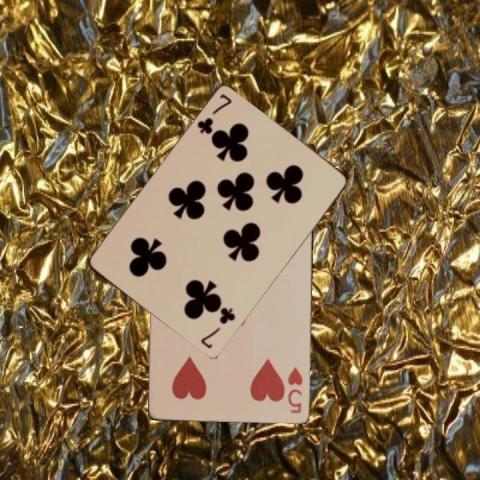5h: (285, 364, 305, 415)
7c: (197, 305, 237, 351), (194, 91, 233, 137)
